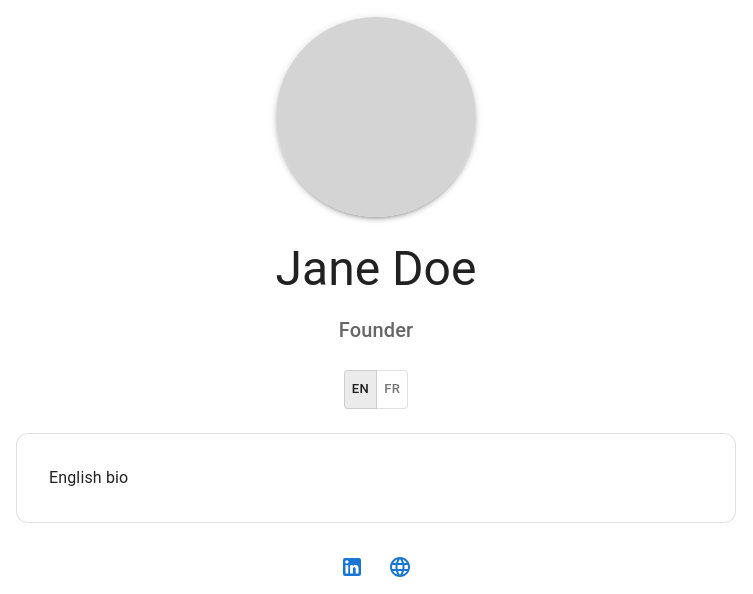
Test: TeamMemberPage (public /team/member/:slug) › switches job title and biography together through the profile language switch
This screenshot has width=753, height=594.
Check: the text "English bio" is shown, box top-left (49, 468), bottom-right (128, 487)
Check: the text "Founder" is shown, box top-left (339, 314), bottom-right (413, 346)
Click the button with aria-label "Français". click: [392, 389]
box: top-left (376, 370), bottom-right (408, 409)
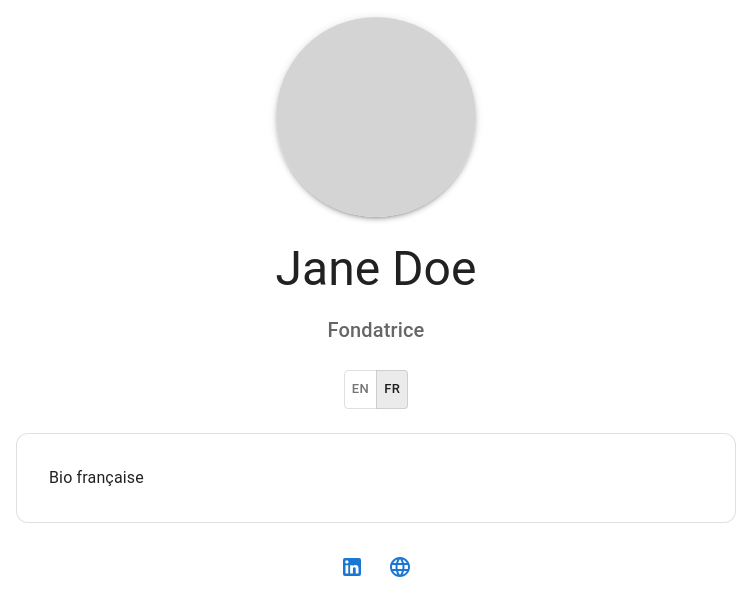
Check: the text "Bio française" is shown, box top-left (49, 468), bottom-right (144, 487)
Check: the text "Fondatrice" is shown, box top-left (328, 314), bottom-right (424, 346)
Check: the text "Founder" is gone
